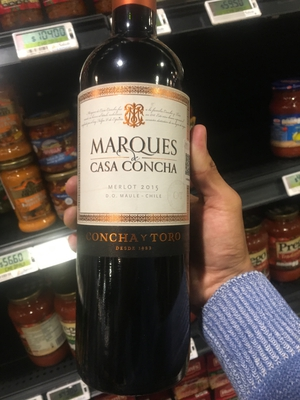marques de casa concha merlot: (55, 14, 204, 316)
